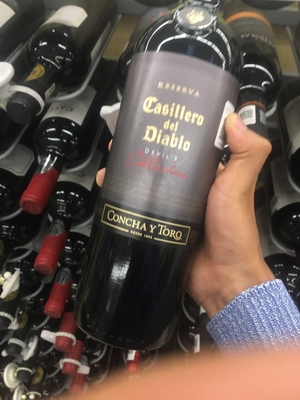casillero del diablo devils collection rojo: (95, 21, 245, 335)
